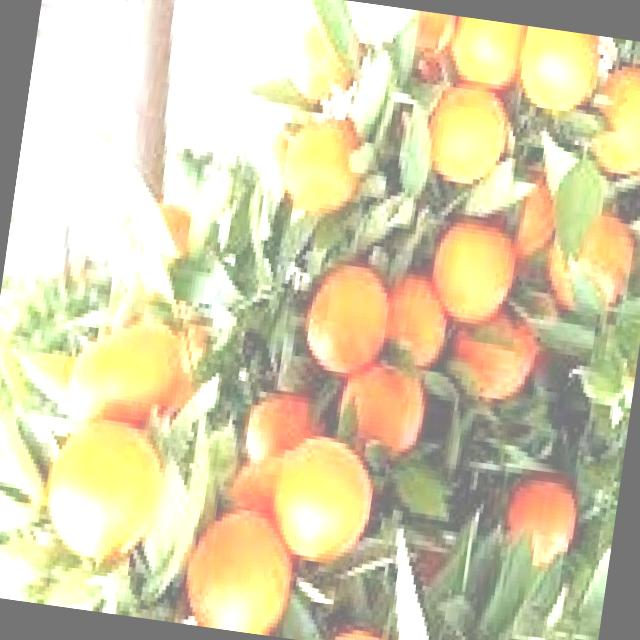Orange: (32, 404, 182, 580), (52, 316, 208, 472), (258, 426, 390, 592), (323, 332, 447, 479), (176, 506, 302, 632), (437, 289, 552, 422), (487, 462, 601, 591), (102, 189, 214, 316), (296, 264, 409, 388), (427, 212, 527, 347), (538, 209, 640, 341), (267, 108, 375, 231), (412, 84, 528, 198), (276, 10, 378, 120), (366, 266, 459, 382), (437, 18, 544, 116), (508, 29, 612, 126), (574, 56, 640, 179)
